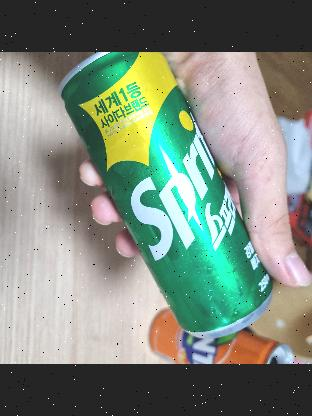Can: (58, 62, 282, 322)
